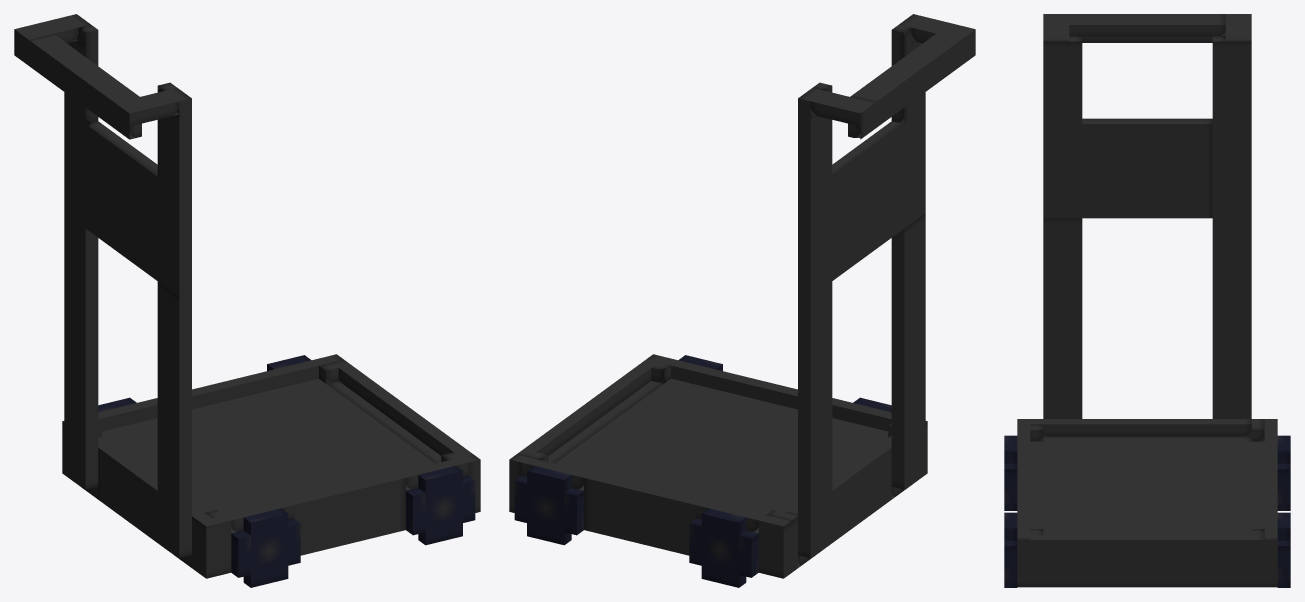
Rendered from wuzek_dlugi_gora.dae.
3 views of the same model, side by side, from view 1: azimuth 30°, elevation 25°; view 2: azimuth 150°, elevation 25°; view 3: azimuth 270°, elevation 25° (orthographic). The views are drawn at different scales.
Parts seen in each view (by area): view 1: Content; view 2: Content; view 3: Content.
Part boxes in pixels (x1,y1,x2,y2): Content: [14, 14, 480, 587]; Content: [509, 14, 975, 587]; Content: [1004, 14, 1290, 587].
Size of the model in its own units: 27 by 37 by 22.
Materials: 1 (1 with a texture image).
